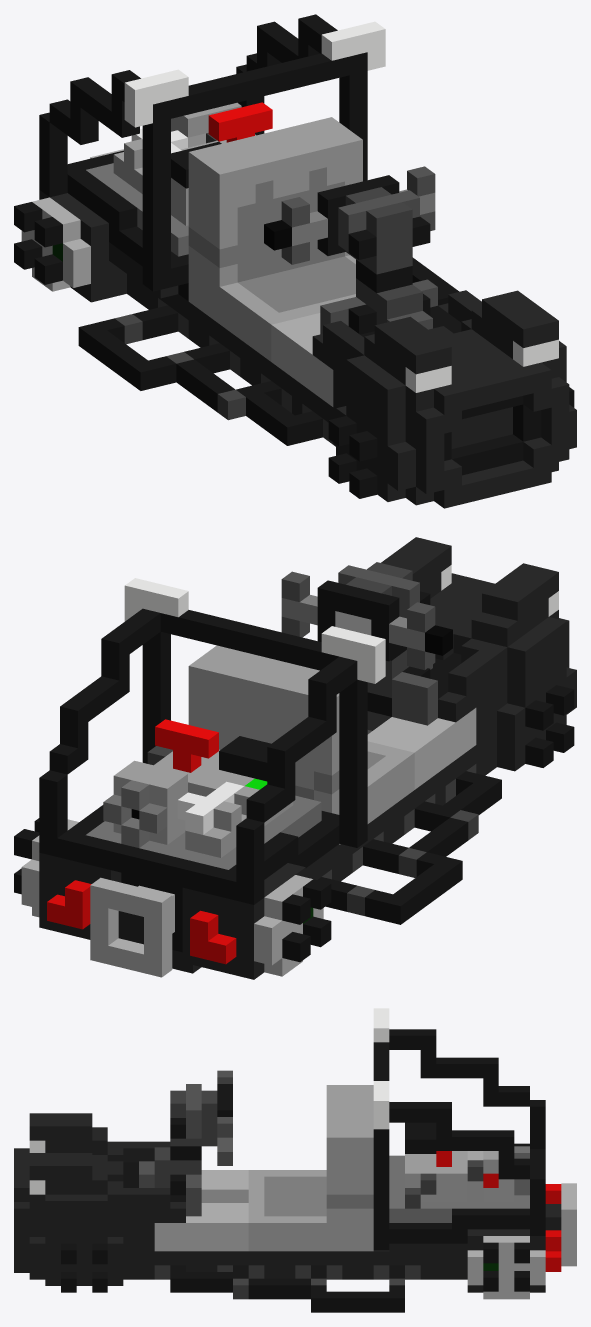
File: Midnight-Black Kart_Chassis.obj
The picture shows the model from 3 angles, top to bottom: view 1: azimuth 30°, elevation 25°; view 2: azimuth 150°, elevation 25°; view 3: azimuth 270°, elevation 25°; orthographic projection. The views are drawn at different scales.
Size of the model in its own units: 1.8 by 1.5 by 3.6.
Materials: 1 (1 with a texture image).
